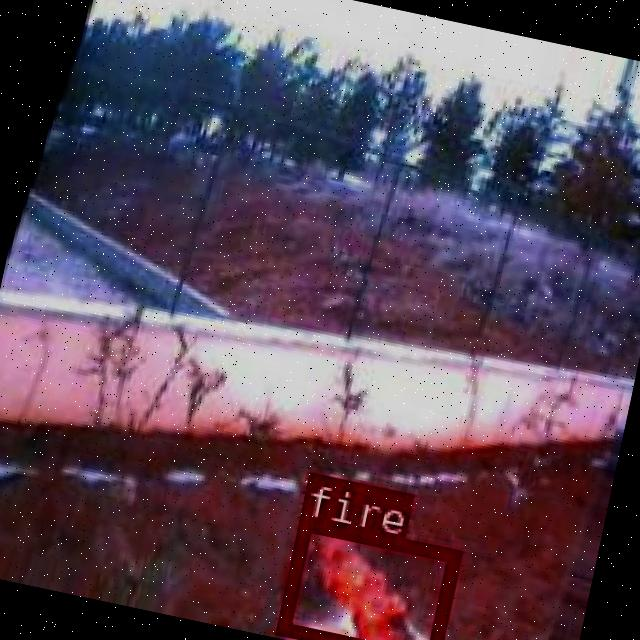fire: (273, 515, 459, 640)
